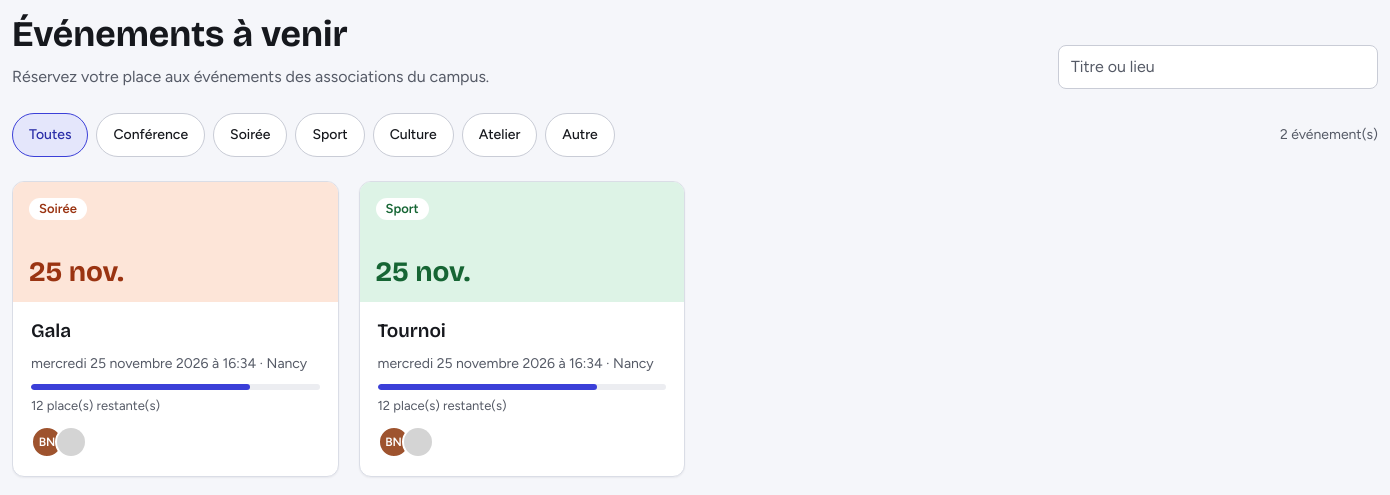
Test: EventsPage › filters the list by category and by search
Expected: the link "Gala" is shown, x1=31 y1=319 x2=71 y2=342
Click the radio button labelled "Sport" at (330, 135), box x1=295 y1=113 x2=365 y2=157
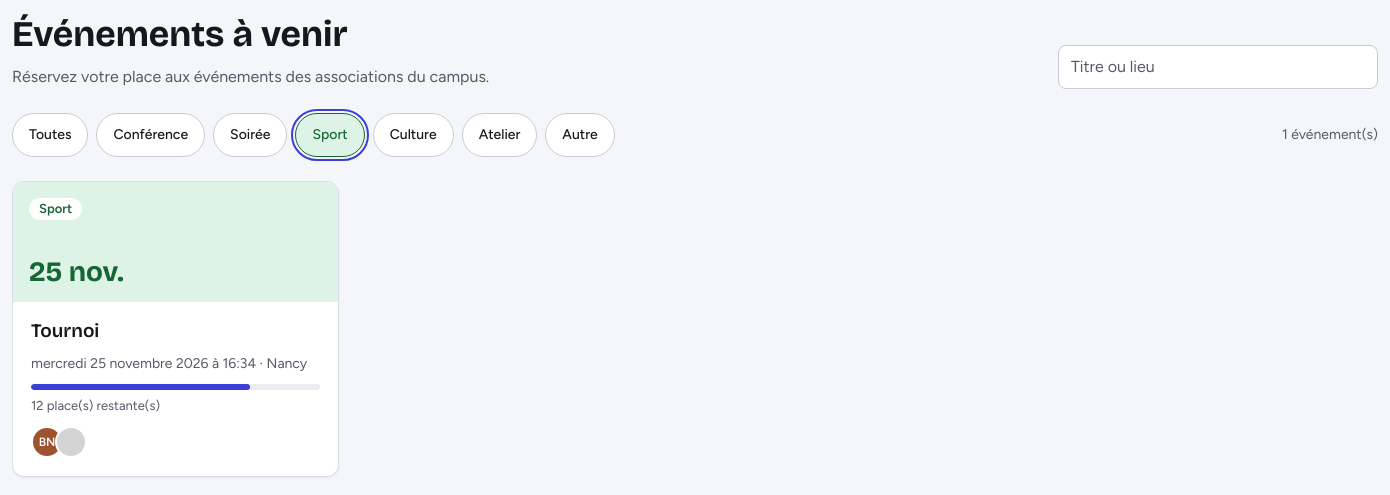
Expected: the link "Tournoi" is shown, x1=31 y1=319 x2=99 y2=342
Expected: the link "Gala" is gone
Click the radio button labelled "Toutes" at (50, 135), box x1=12 y1=113 x2=88 y2=157
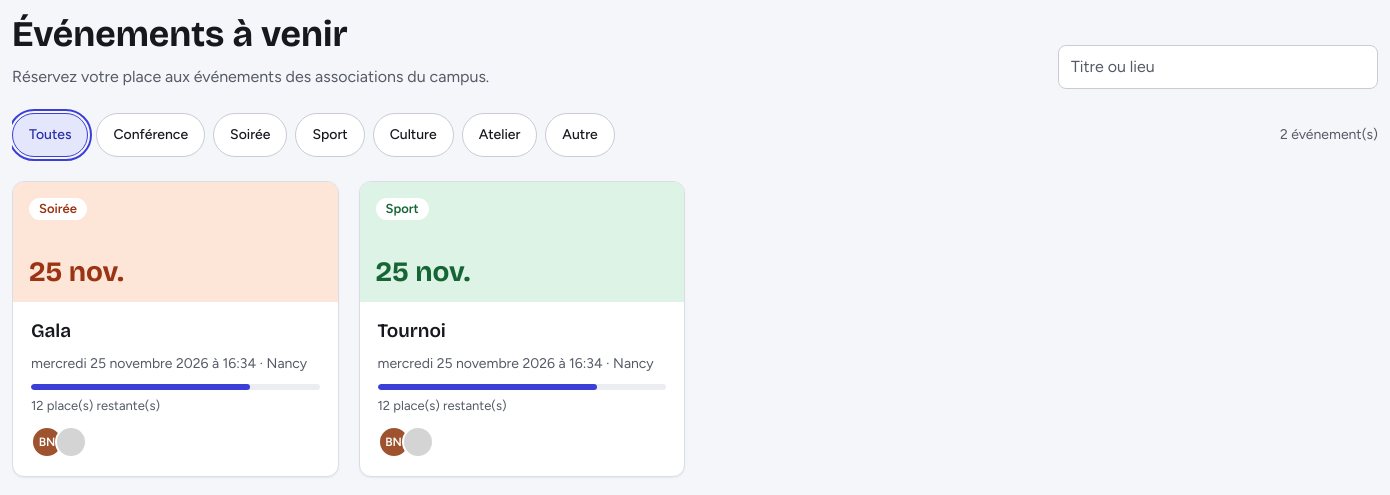
Type "gal" into the search field named "Rechercher un événement" at (1218, 67), box x1=1058 y1=45 x2=1378 y2=89
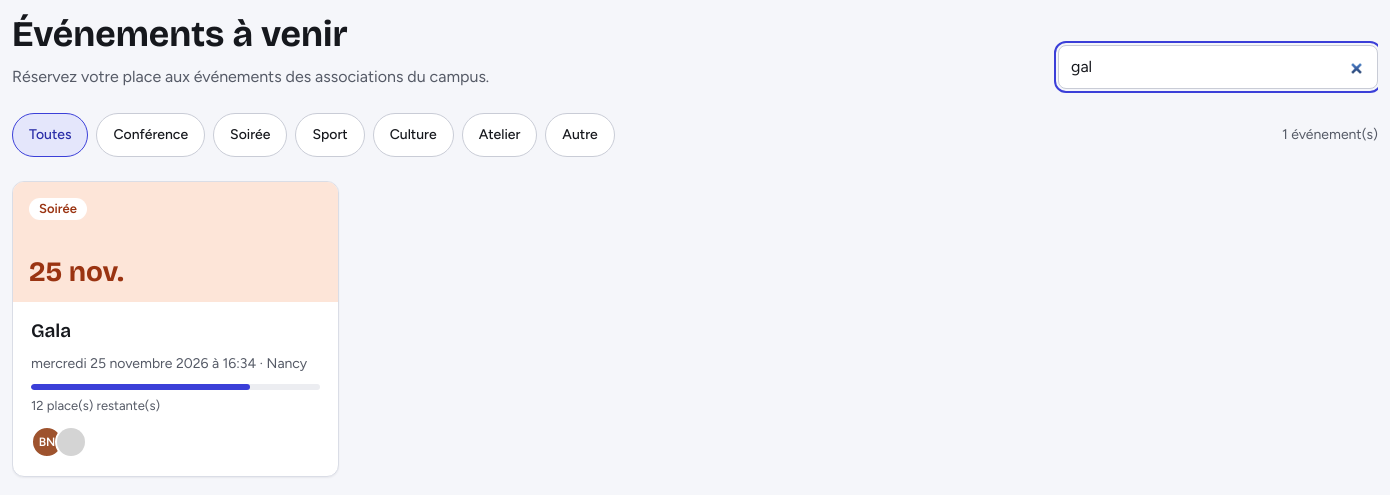
Expected: the link "Gala" is shown, x1=31 y1=319 x2=71 y2=342
Expected: the link "Tournoi" is gone
Type "xyz" into the search field named "Rechercher un événement" at (1218, 67), box x1=1058 y1=45 x2=1378 y2=89
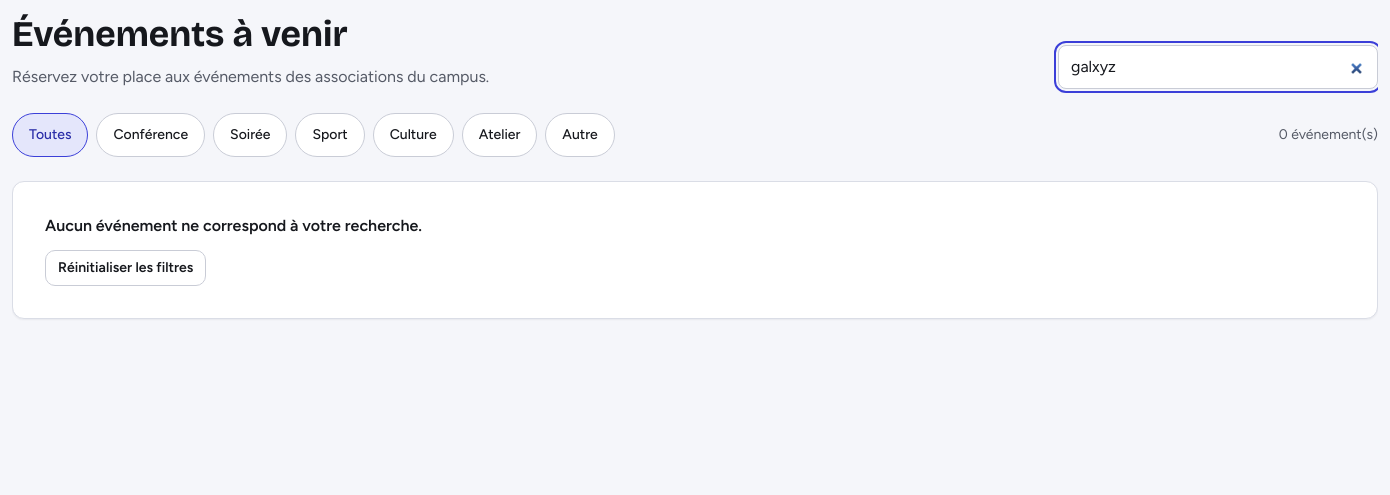
Expected: the text "Aucun événement ne correspond à votre recherche." is shown, x1=45 y1=214 x2=422 y2=238
